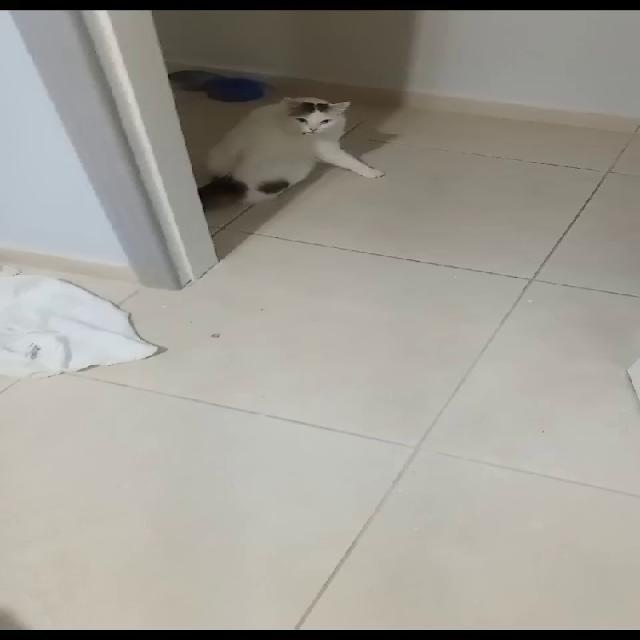Simba: (201, 87, 427, 229)
